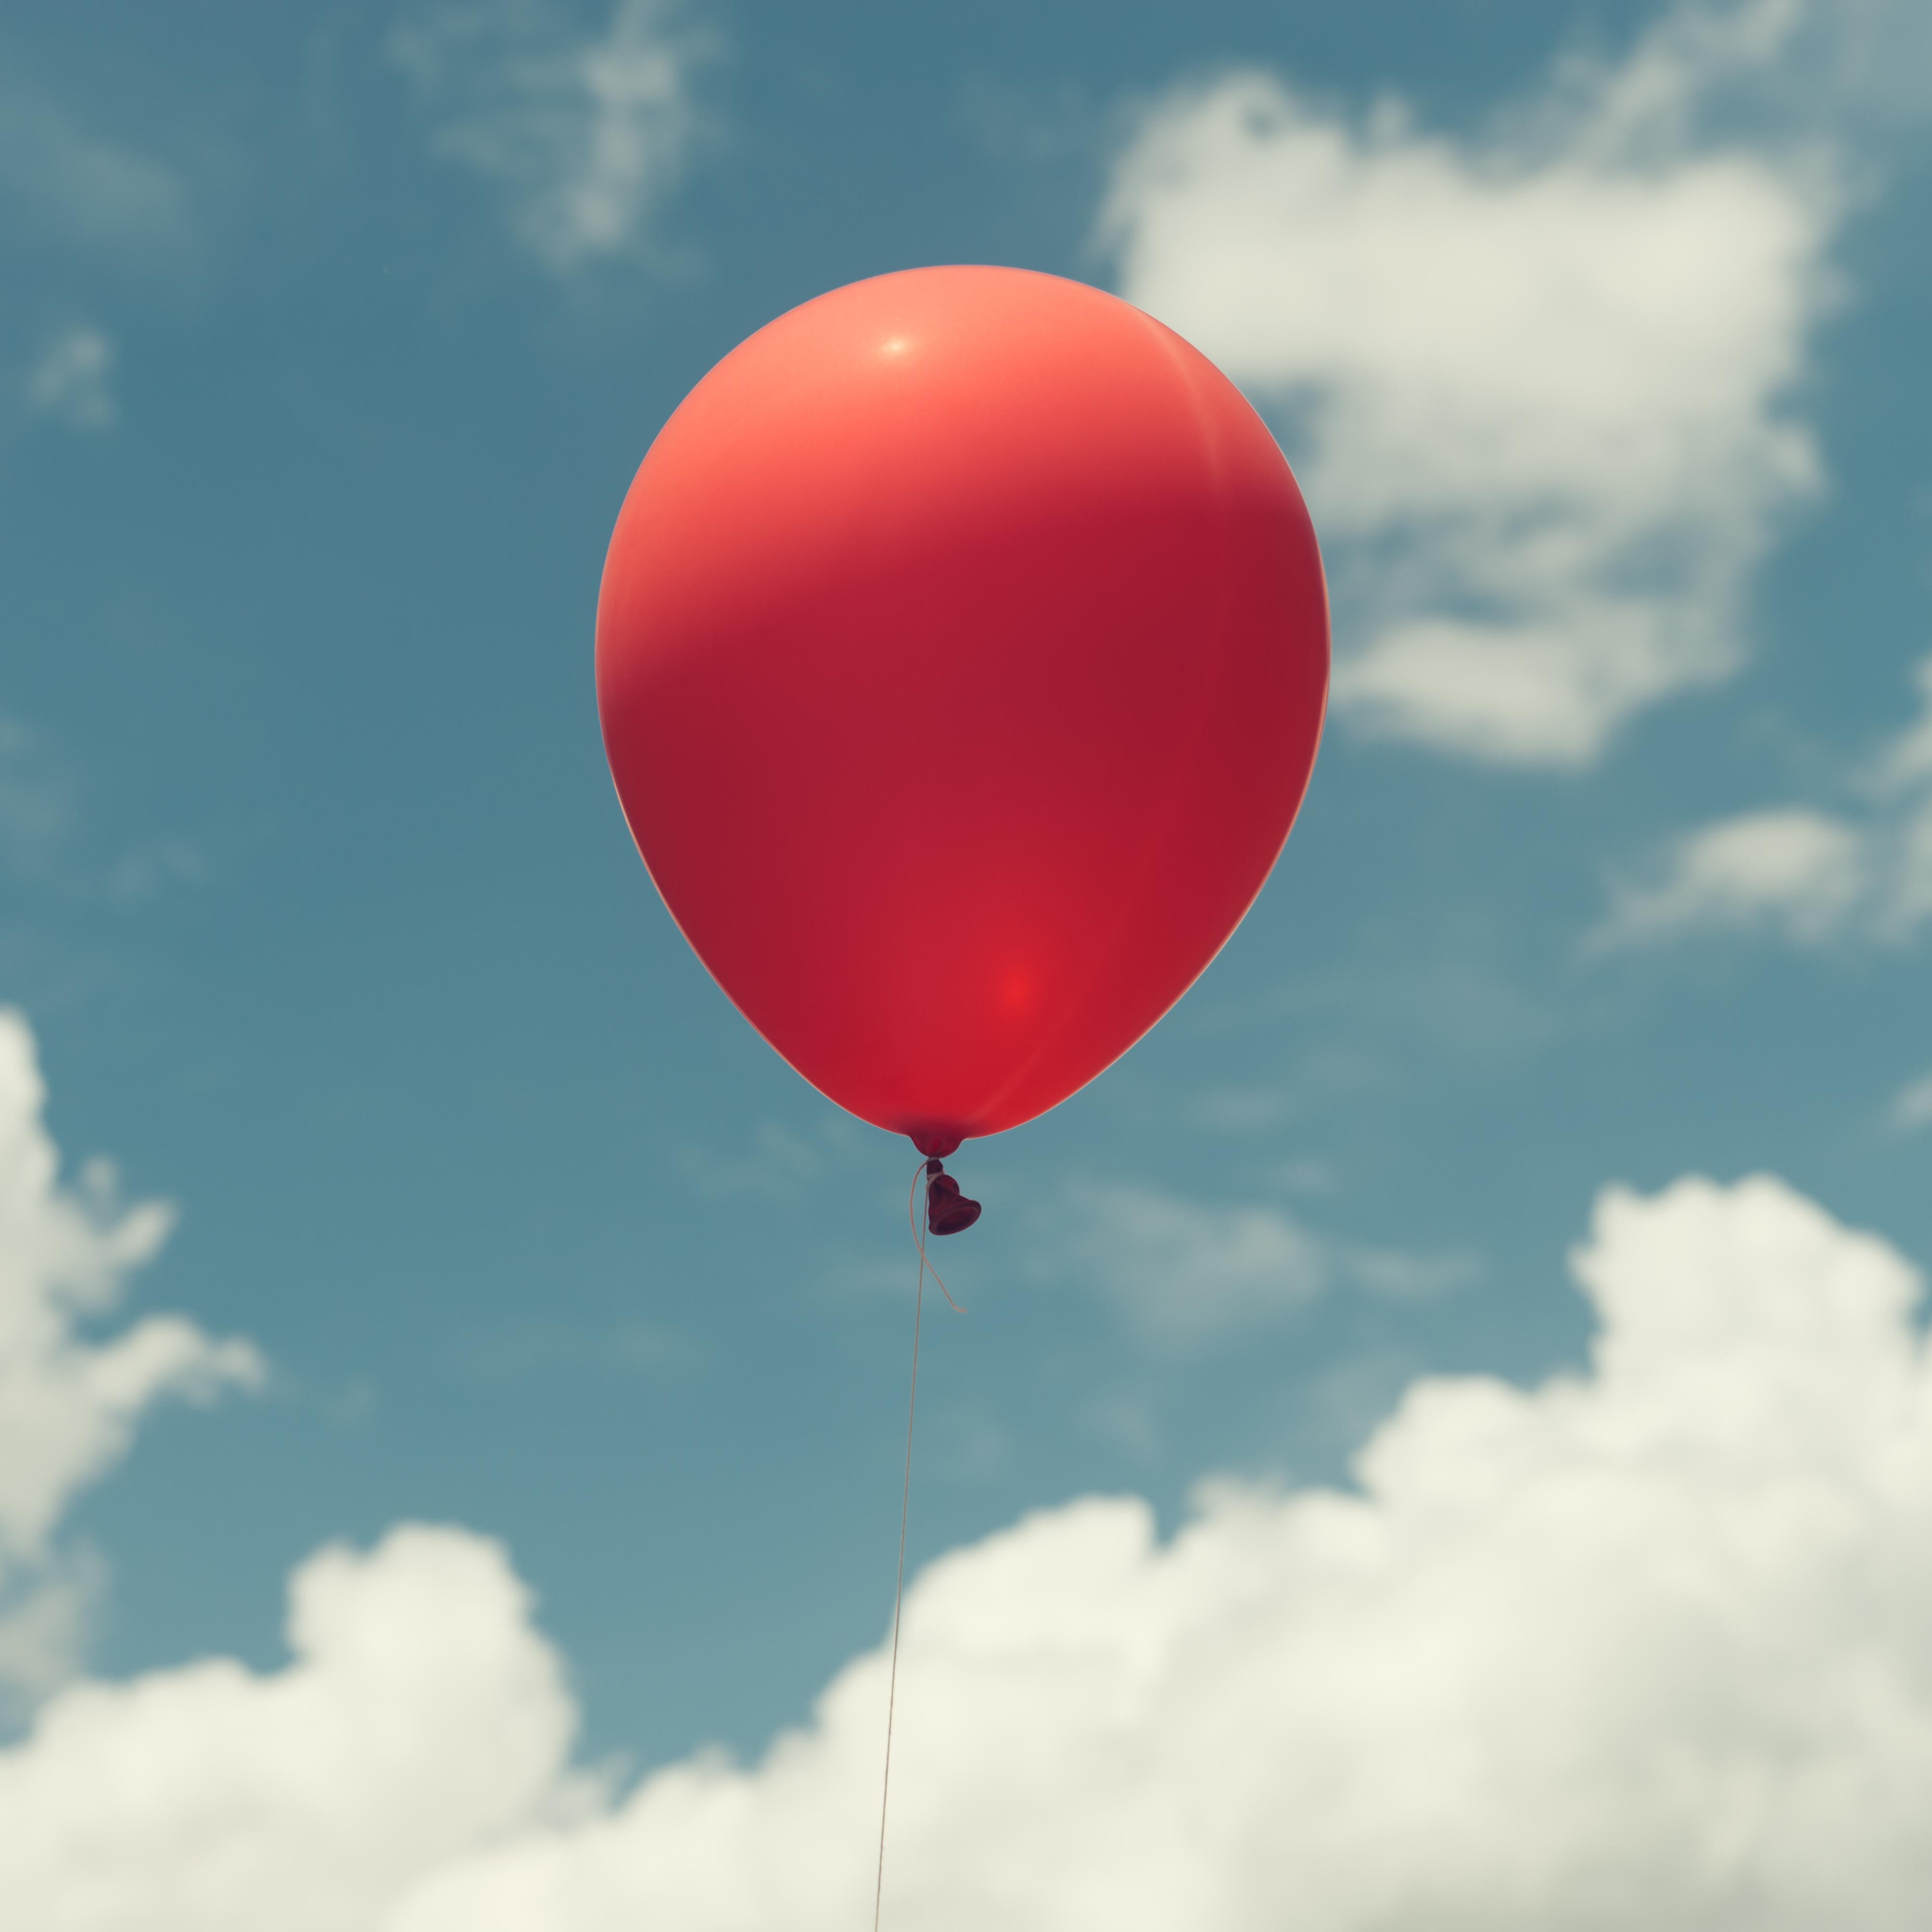red: (573, 257, 1346, 1246)
